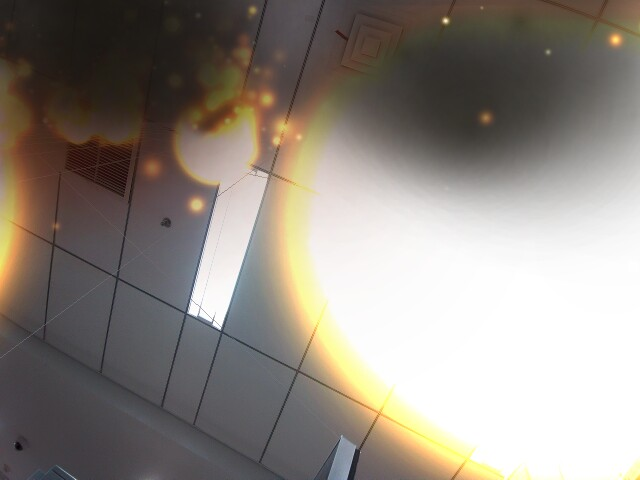fire: (269, 15, 639, 476), (0, 103, 37, 303), (171, 106, 261, 183), (97, 103, 142, 152), (51, 105, 93, 149)
